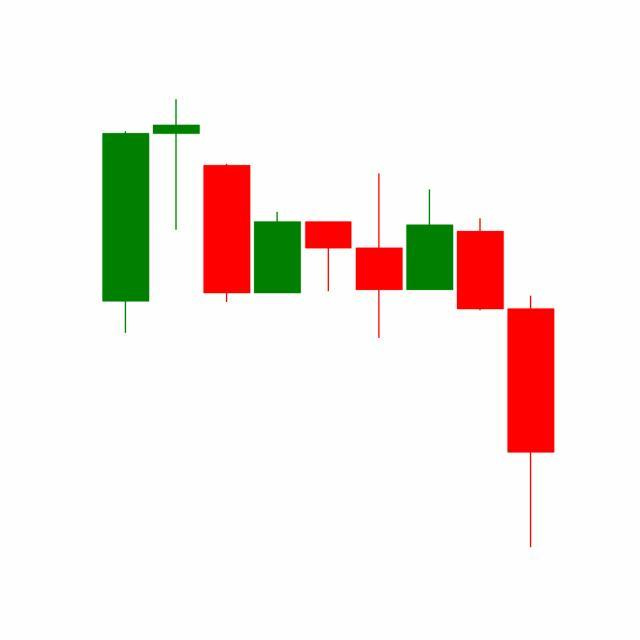Hikkake Pattern: (252, 172, 506, 341)
